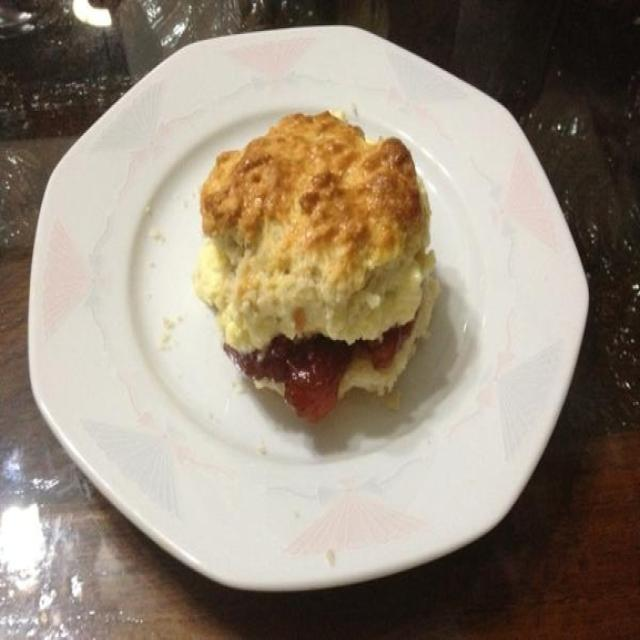面包点心: (20, 18, 591, 598)
